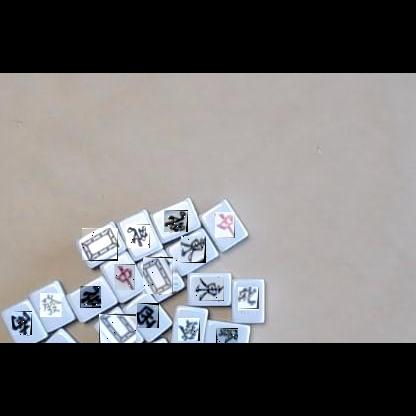1z: (194, 277, 224, 301), (180, 236, 206, 263)
2z: (12, 311, 32, 335)
3z: (137, 303, 159, 328)
4z: (126, 224, 150, 248), (238, 288, 259, 314), (164, 210, 188, 232), (80, 286, 101, 308)
5z: (144, 257, 178, 294), (82, 228, 118, 261), (99, 314, 136, 343)
6z: (40, 293, 62, 317), (178, 318, 200, 341), (216, 328, 238, 343)
7z: (114, 264, 135, 290), (215, 212, 235, 238)
